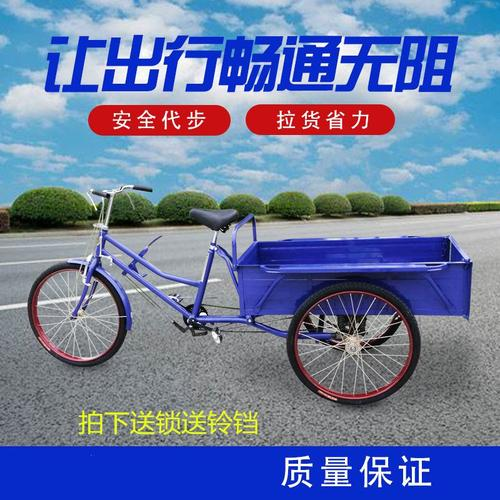empty: (16, 180, 500, 404)
